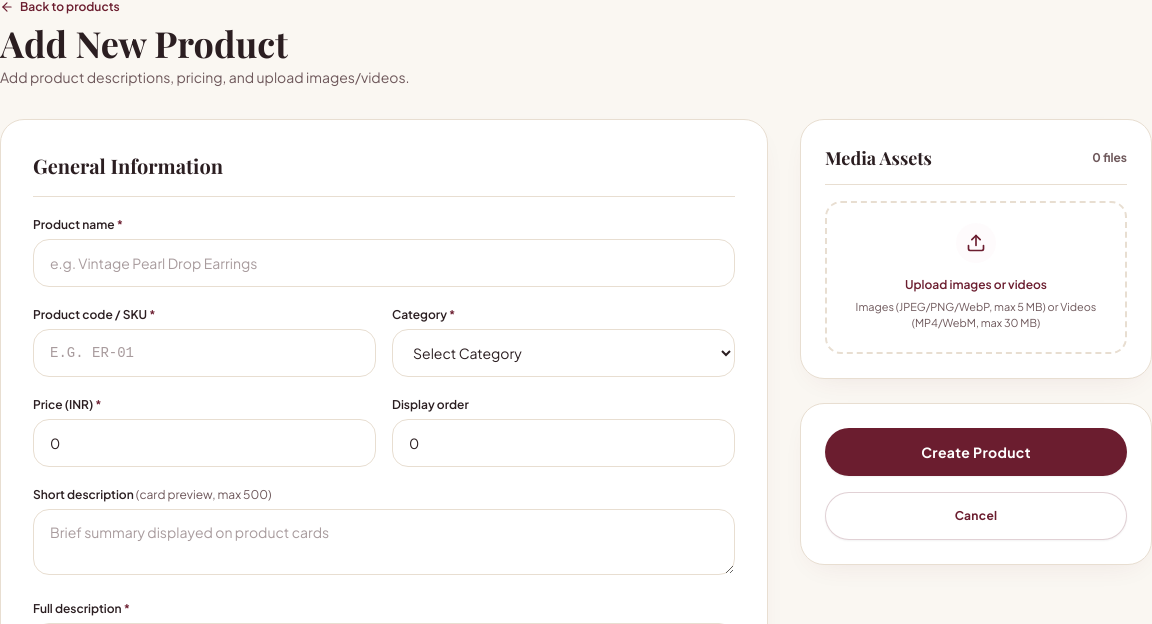
it: AdminProductFormPage - Create Mode › maps backend duplicate product code error to form
The image size is (1152, 624).
Expected: the heading "Add New Product" is shown, [0,19,288,67]
Type "Duplicate Test" into the field labelled "Product name *" at (384, 263), box [33,239,735,287]
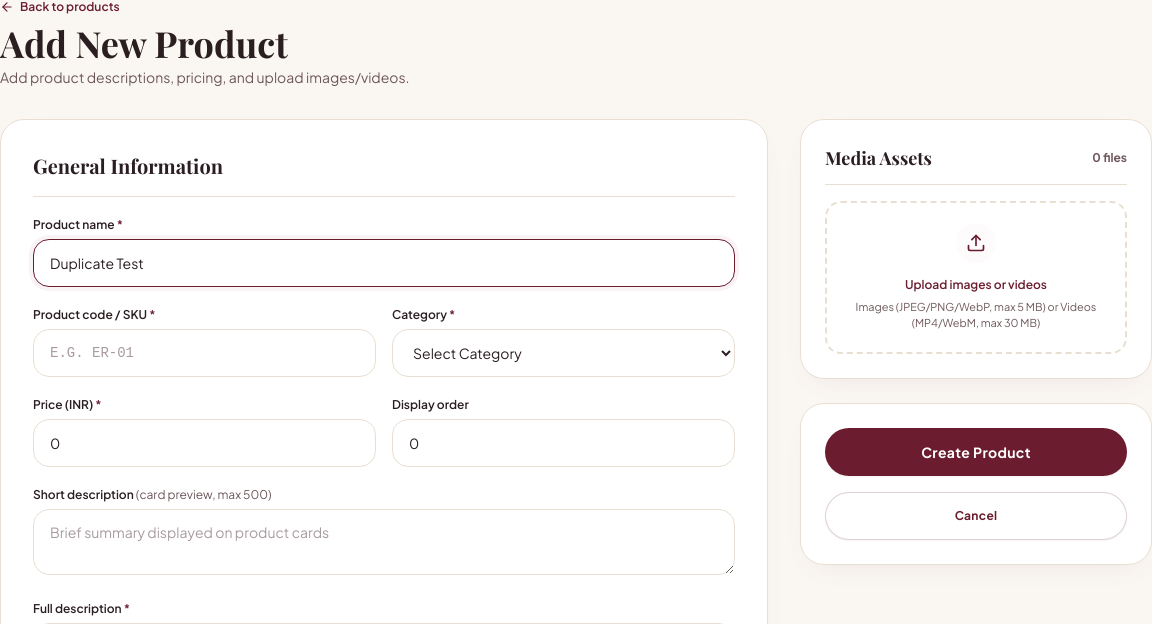
Type "DUPLICATE-CODE" into the field labelled "Product code / SKU *" at (204, 353), box [33,329,376,377]
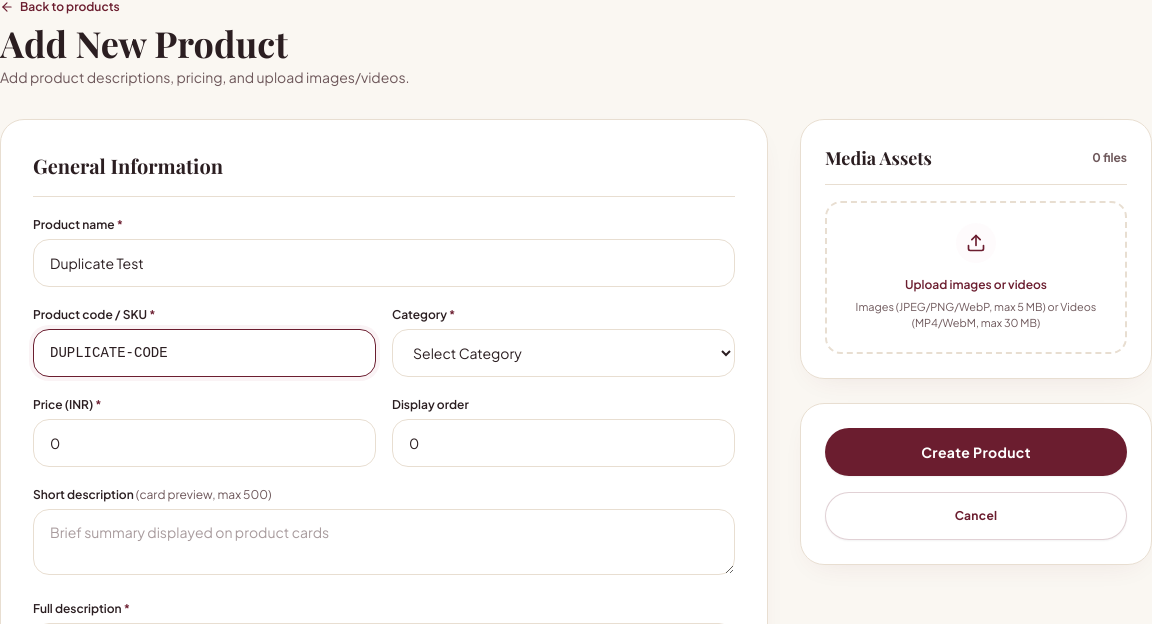
Select "Earrings" in the dropdown labelled "Category *" at (564, 353), box [392,329,735,377]
(page scrolled)
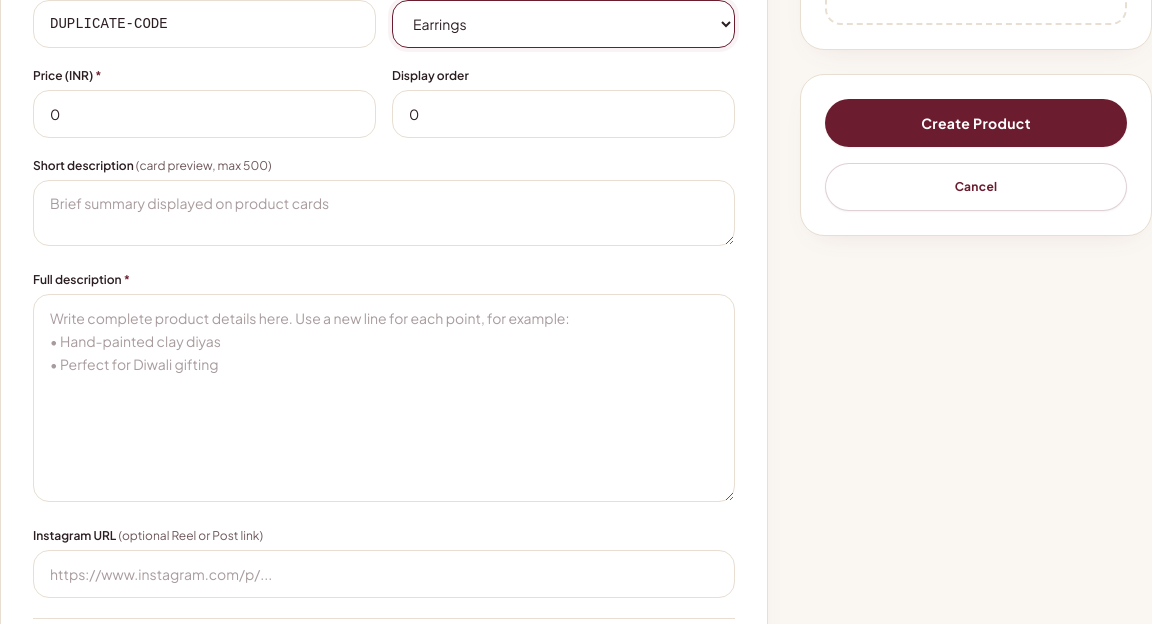
Type "Testing duplicate" into the text box labelled "Full description *" at (384, 398), box [33,294,735,502]
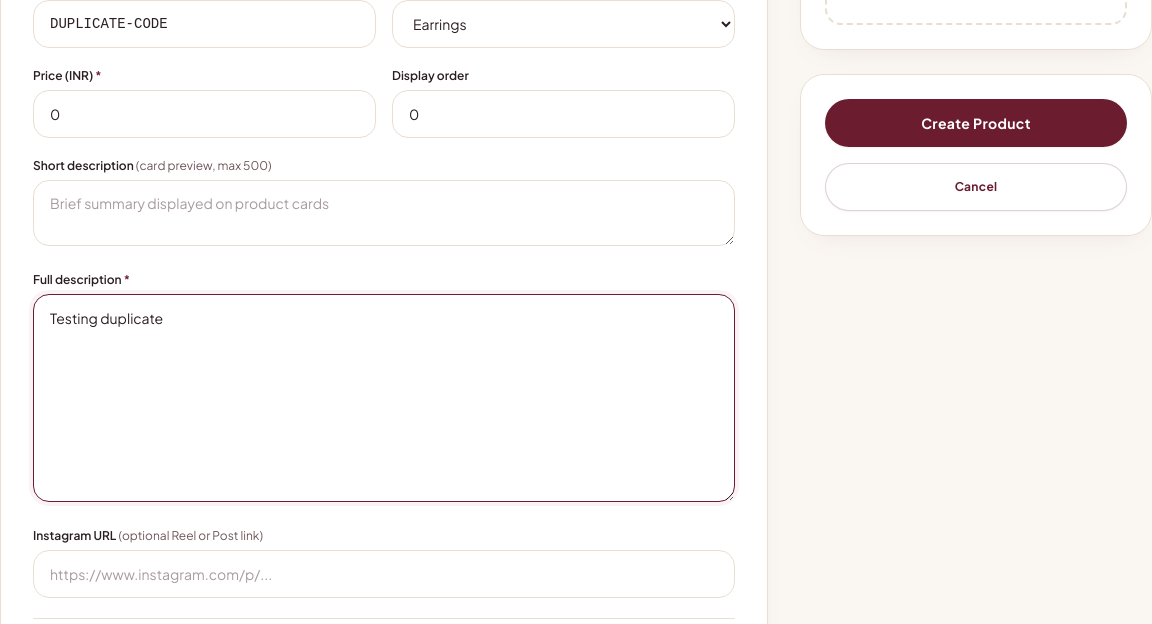
Click the button "Create Product" at (976, 123), box [825,99,1127,147]
(page scrolled)
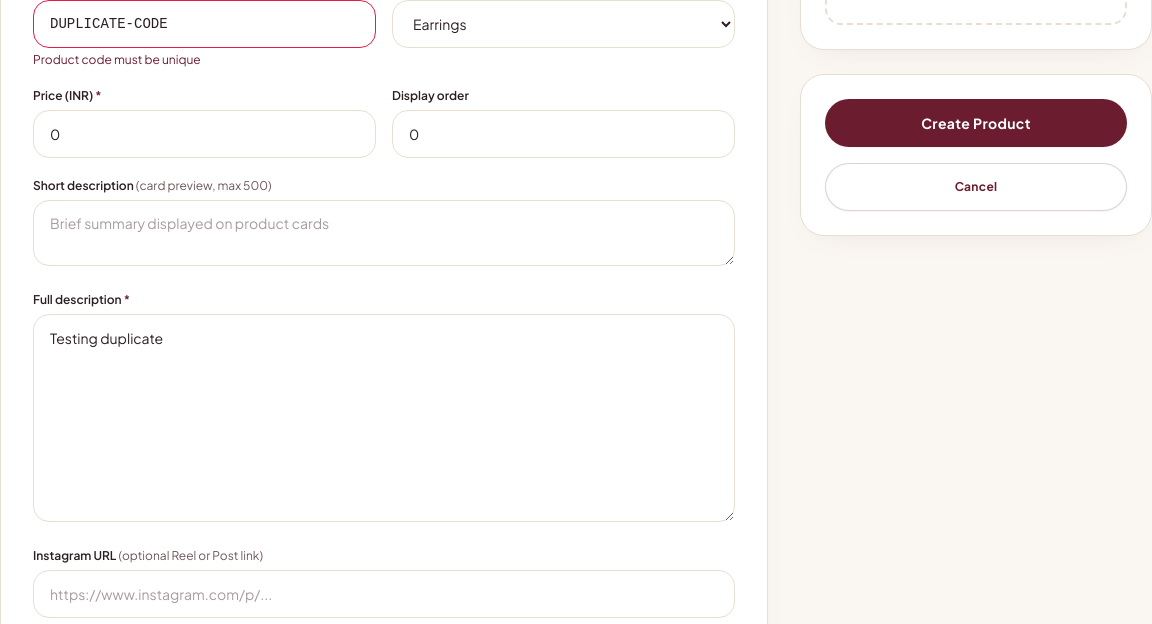
Expected: the text "Product code must be unique" is shown, [33,52,201,67]
